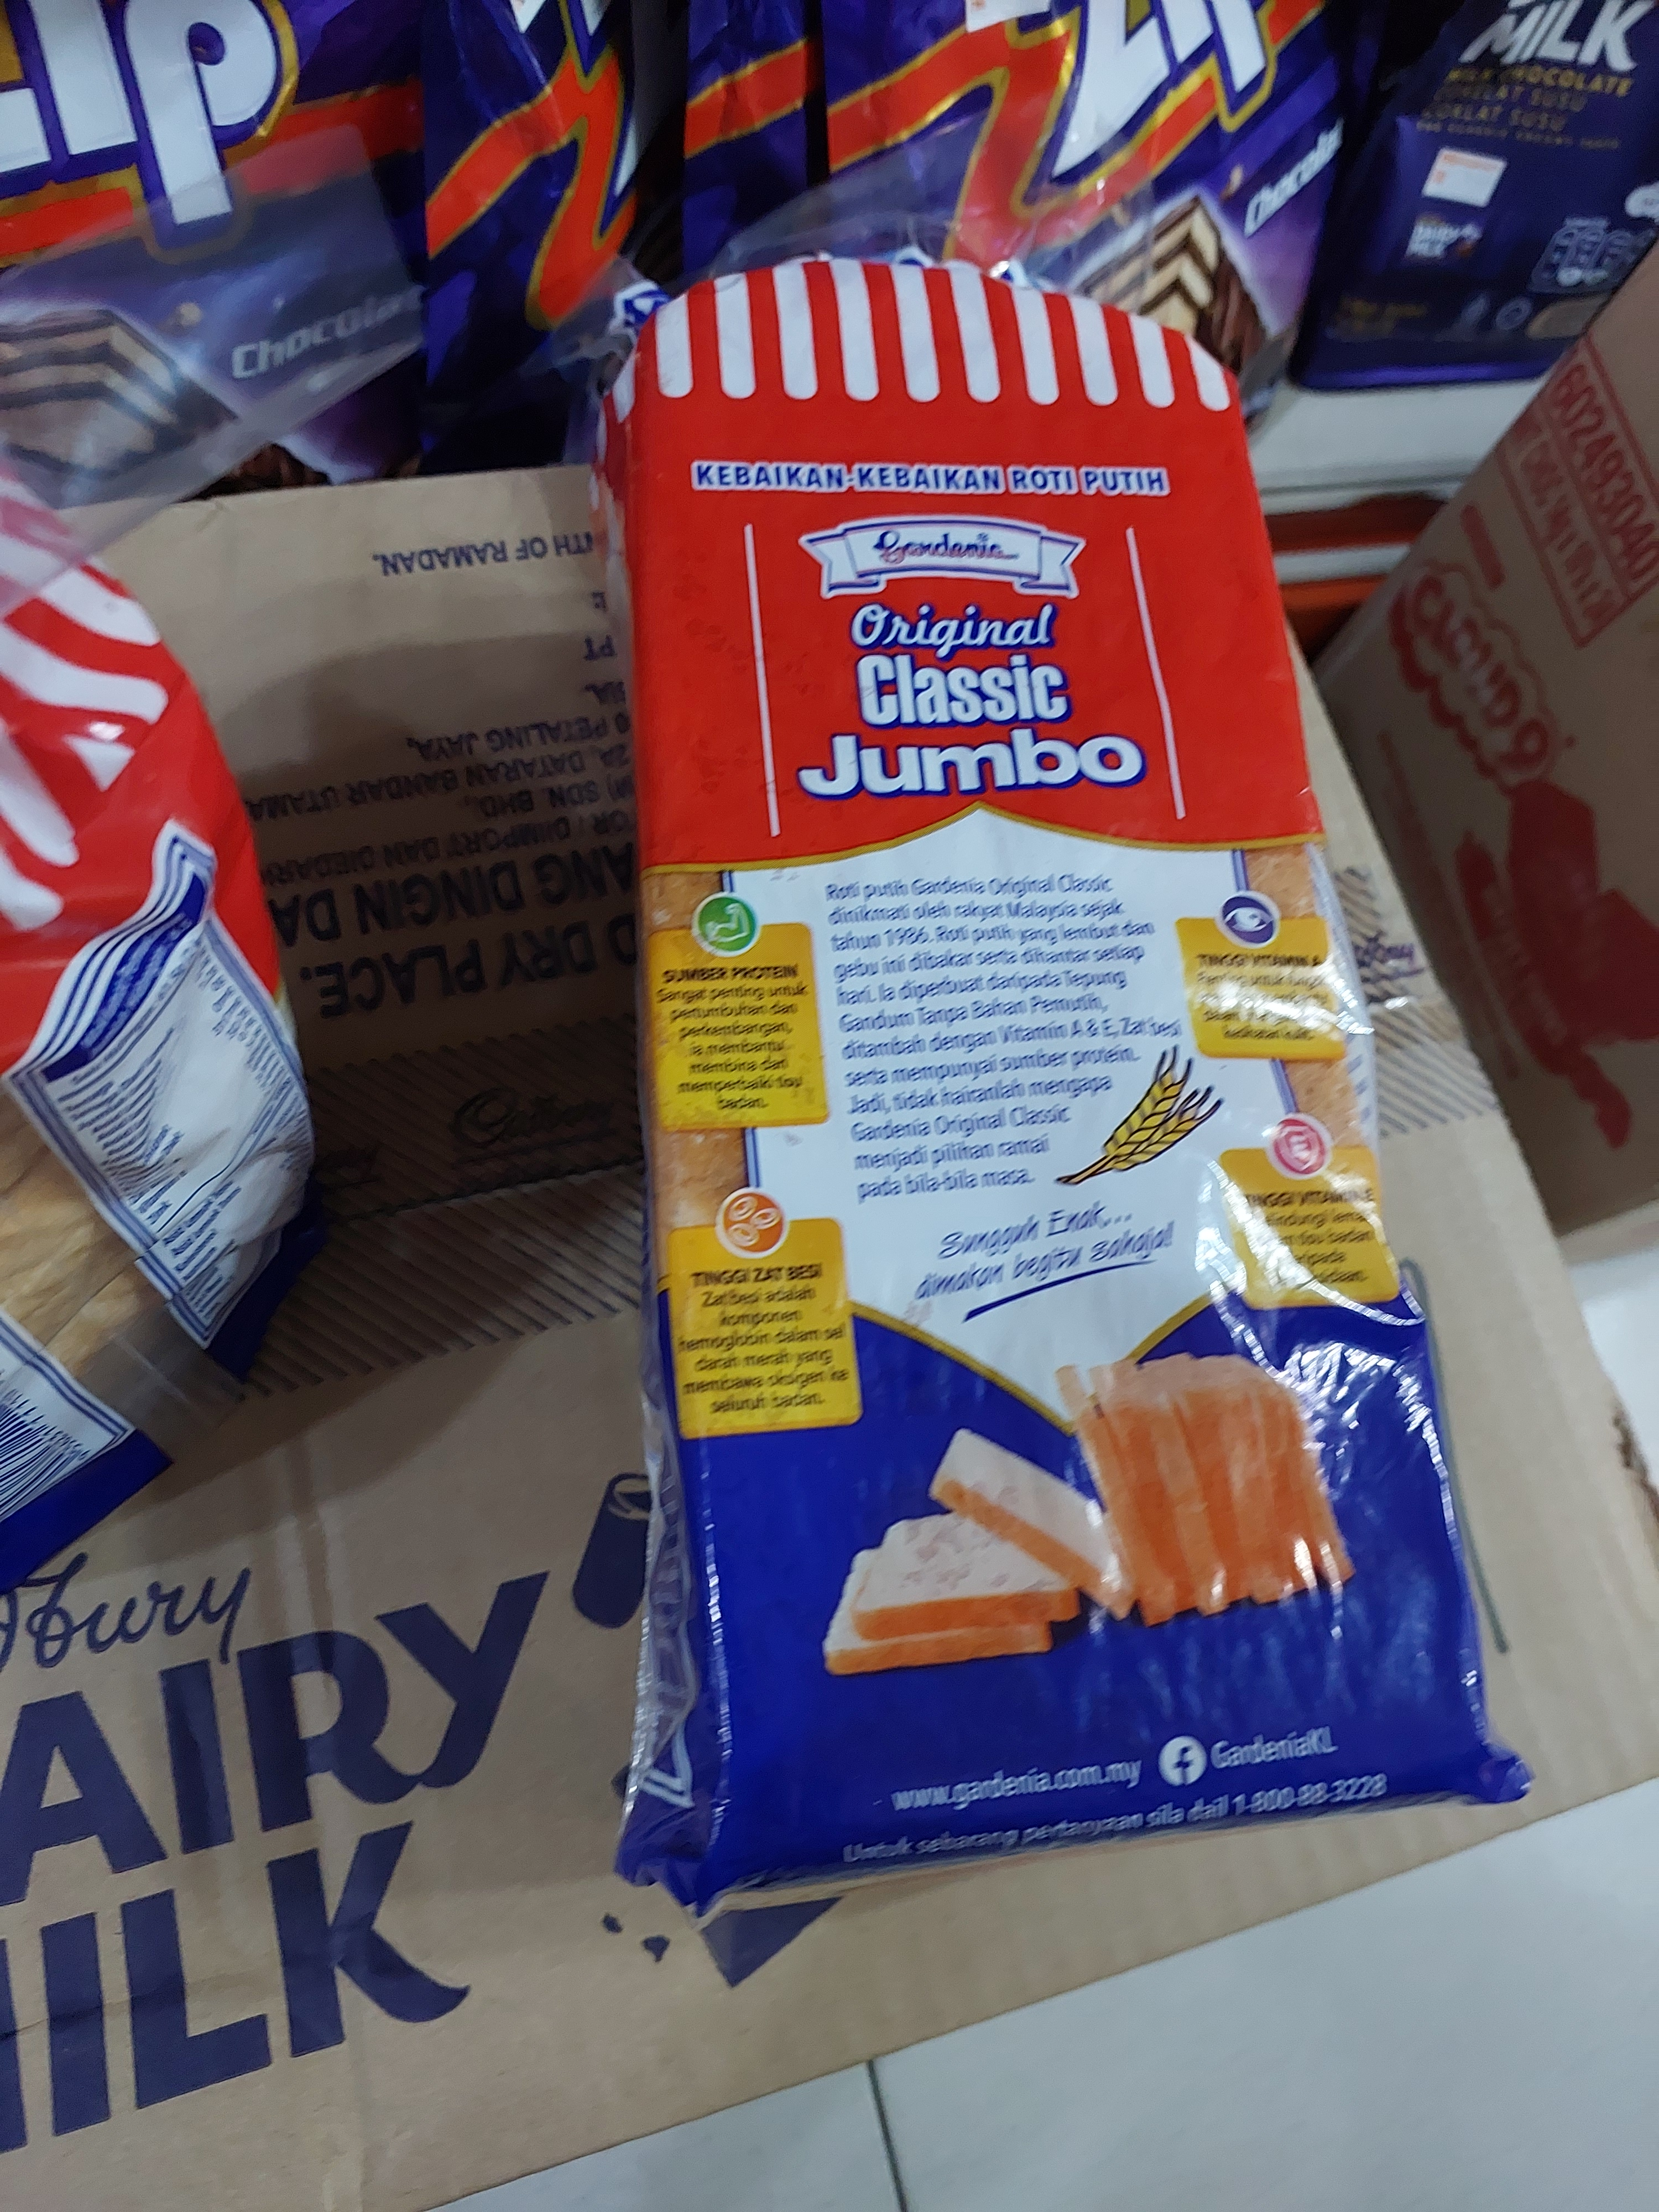bread: (591, 251, 1537, 1892)
